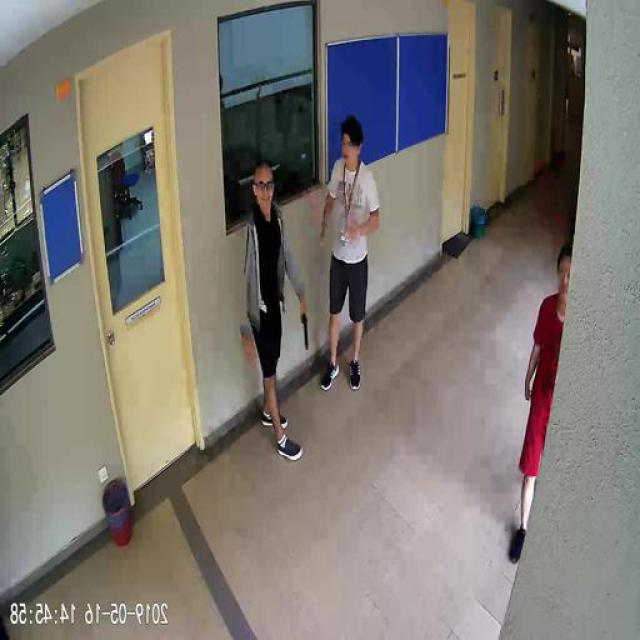Gun: (301, 305, 310, 346)
